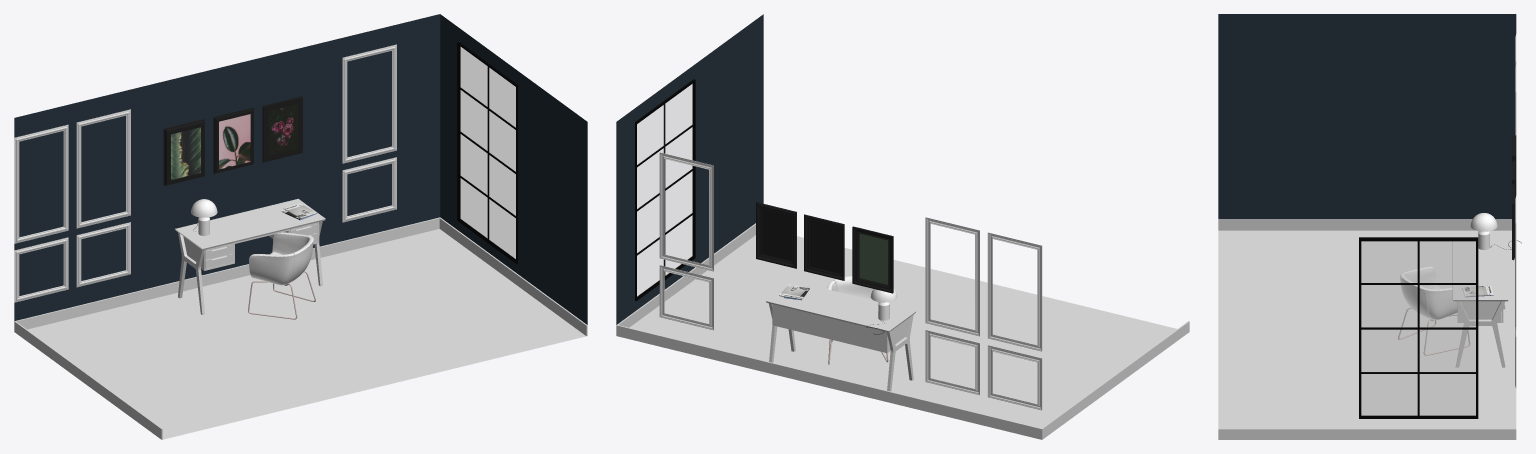
Rendered from room.glb.
The picture shows the model from 3 angles, left to right: view 1: azimuth 30°, elevation 25°; view 2: azimuth 150°, elevation 25°; view 3: azimuth 270°, elevation 25°; orthographic projection.
Parts seen in each view (by area): view 1: Room, Floor, 1200 Window Glass, Baseboard, Wall_panels.004, Desk.001, Wall_panels, 1200 Window, iMeshh Picture Frame1, Tulip Chair Top, iMeshh Picture Frame2, iMeshh Picture Frame1.001 (+1 smaller); view 2: Floor, Room, 1200 Window Glass, Baseboard, Desk.001, Wall_panels.004, Wall_panels, iMeshh Picture Frame1, iMeshh Picture Frame2, iMeshh Picture Frame1.001, 1200 Window, Tulip Chair Top; view 3: Room, Floor, 1200 Window Glass, Baseboard, Desk.001, 1200 Window, Tulip Chair Top, Ottolo Lamp replica.001, Wall_panels, Tulip Chair Legs.
Boxes of the visible parts, x1,y1,x2,y2 form: Room: (14,14,587,324); Floor: (27,229,585,439); 1200 Window Glass: (460,46,515,258); Baseboard: (14,217,587,439); Wall_panels.004: (14,109,130,302); Desk.001: (175,198,325,314); Wall_panels: (342,44,396,222); 1200 Window: (457,42,517,263); iMeshh Picture Frame1: (163,119,204,185); Tulip Chair Top: (249,232,313,285); iMeshh Picture Frame2: (262,96,302,162); iMeshh Picture Frame1.001: (213,107,253,173); Floor: (629,235,1176,428); Room: (616,14,763,324); 1200 Window Glass: (637,84,692,296); Baseboard: (616,223,1189,439); Desk.001: (766,281,916,391); Wall_panels.004: (925,217,1042,410); Wall_panels: (659,152,713,330); iMeshh Picture Frame1: (852,226,893,293); iMeshh Picture Frame2: (756,202,796,268); iMeshh Picture Frame1.001: (804,214,844,280); 1200 Window: (635,79,695,300); Tulip Chair Top: (827,275,873,300); Room: (1218,14,1516,219); Floor: (1218,230,1514,428); 1200 Window Glass: (1361,241,1475,415); Baseboard: (1218,219,1516,439); Desk.001: (1452,239,1508,367); 1200 Window: (1359,237,1478,418); Tulip Chair Top: (1400,266,1457,319); Ottolo Lamp replica.001: (1470,213,1497,231); Wall_panels: (1515,196,1516,388); Tulip Chair Legs: (1398,307,1470,355).
Size of the model in its own units: 5.02 by 2.4 by 3.06.
23 materials, 6 textured.
